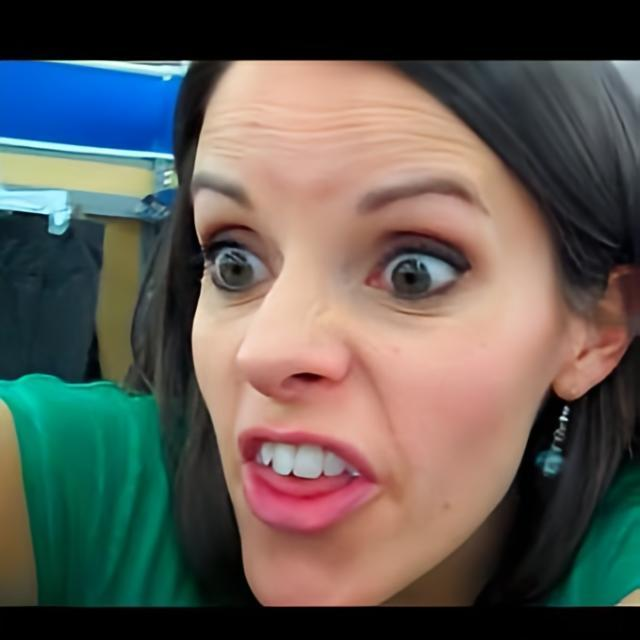surprise: (188, 61, 554, 606)
